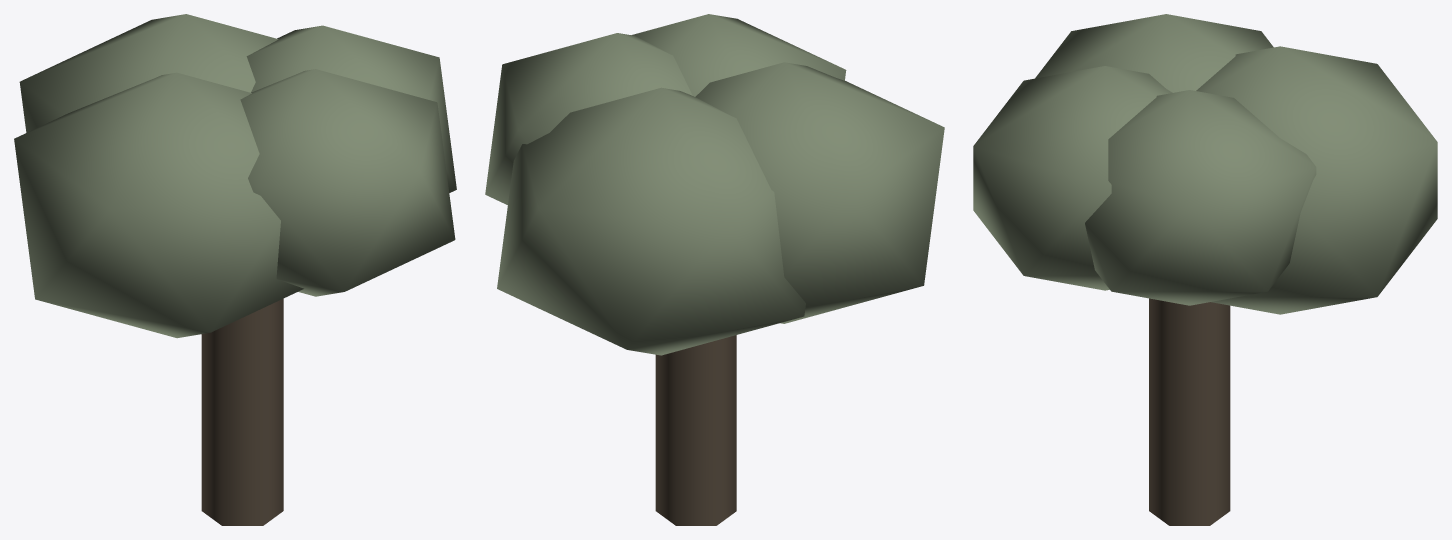
Rendered from tf_sagebrush_0p5.glb.
3 views of the same model, side by side, from view 1: azimuth 30°, elevation 25°; view 2: azimuth 150°, elevation 25°; view 3: azimuth 270°, elevation 25° (orthographic).
Visible parts, largest first — view 1: tf_sagebrush_0p5; view 2: tf_sagebrush_0p5; view 3: tf_sagebrush_0p5.
Part boxes in pixels (bbox=[...]): tf_sagebrush_0p5: bbox=[14, 14, 456, 525]; tf_sagebrush_0p5: bbox=[485, 14, 944, 525]; tf_sagebrush_0p5: bbox=[973, 14, 1437, 525].
Size of the model in its own units: 0.4676 by 0.5 by 0.4576.
